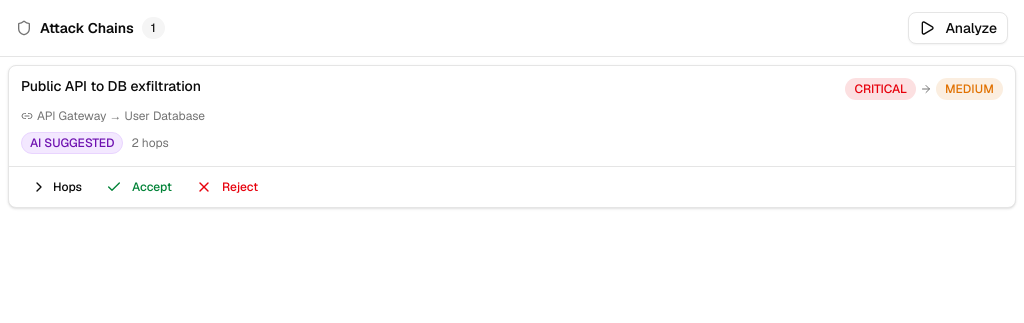
it: AttackChainsPanel › does not show hops until expanded, then reveals them
Check: the text "Exploit missing auth on public route" is not shown
What coordinates should you click on to do the following:
click the button with aria-label "Expand hops"
I would click on:
 (56, 187)
Its box is x1=21 y1=175 x2=92 y2=199.
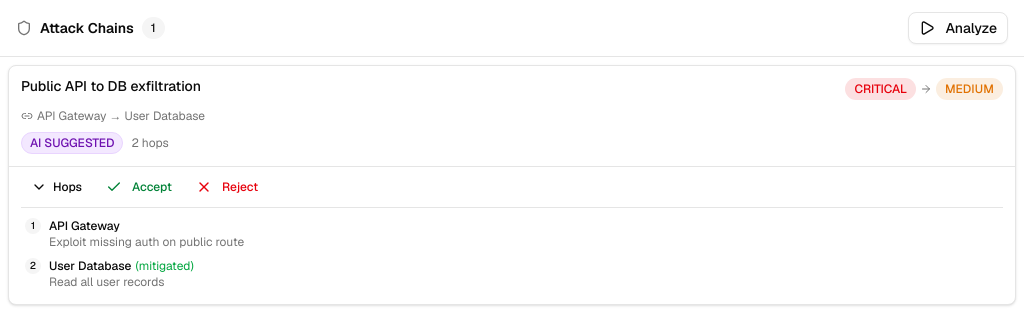
Check: the text "Exploit missing auth on public route" is shown, box x1=49 y1=234 x2=244 y2=250
Check: the text "Read all user records" is shown, box x1=49 y1=274 x2=164 y2=290
Check: the text "(mitigated)" is shown, box x1=136 y1=258 x2=194 y2=274
